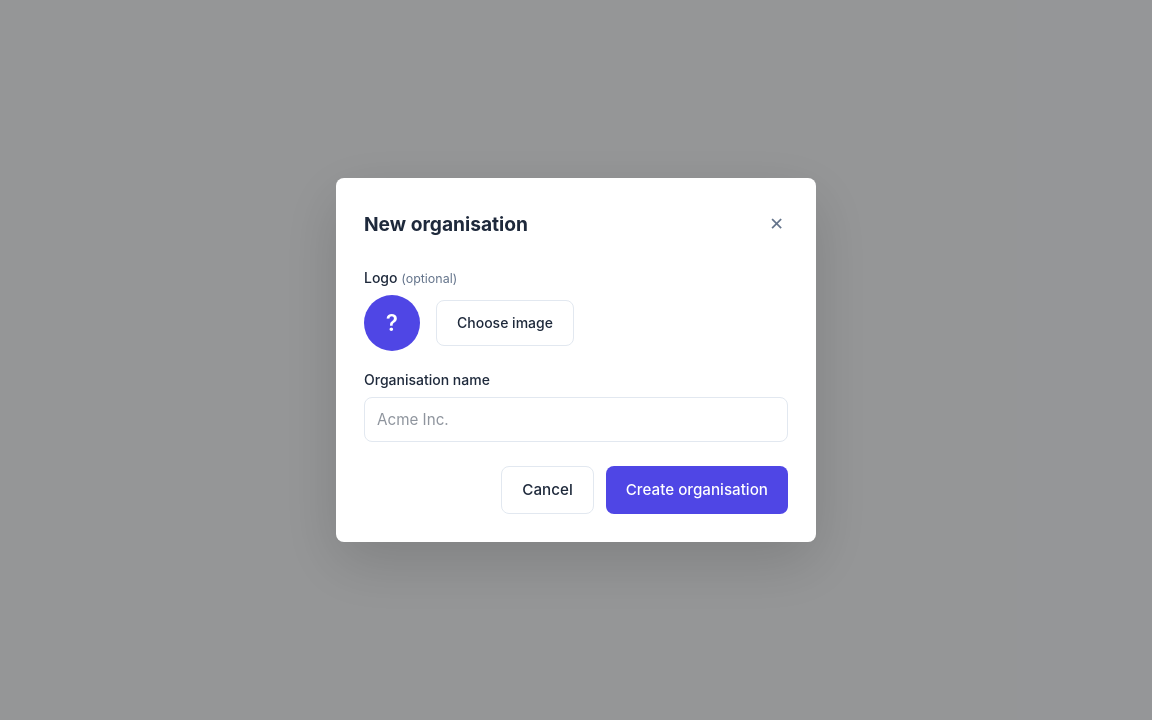
Test case: OrganisationForm › requires a name before submitting
Click the button "Create organisation": [697, 490] box [606,466,788,514]
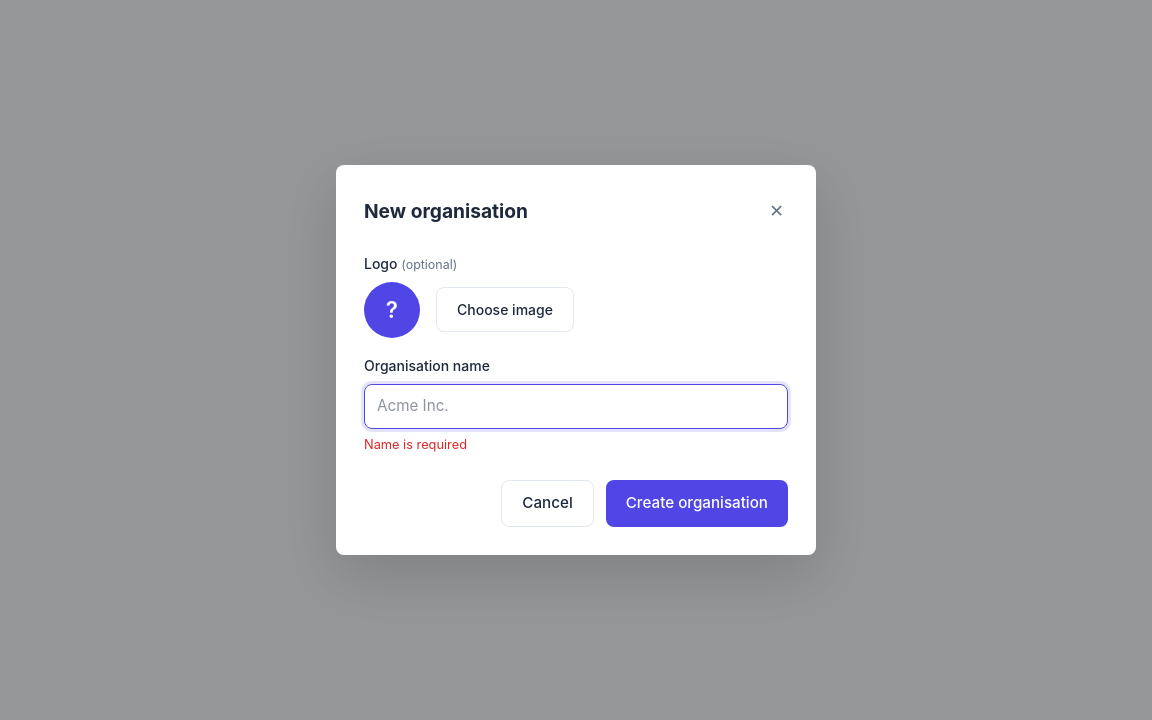
Result: the text "Name is required" is shown at [364,437,467,452]
